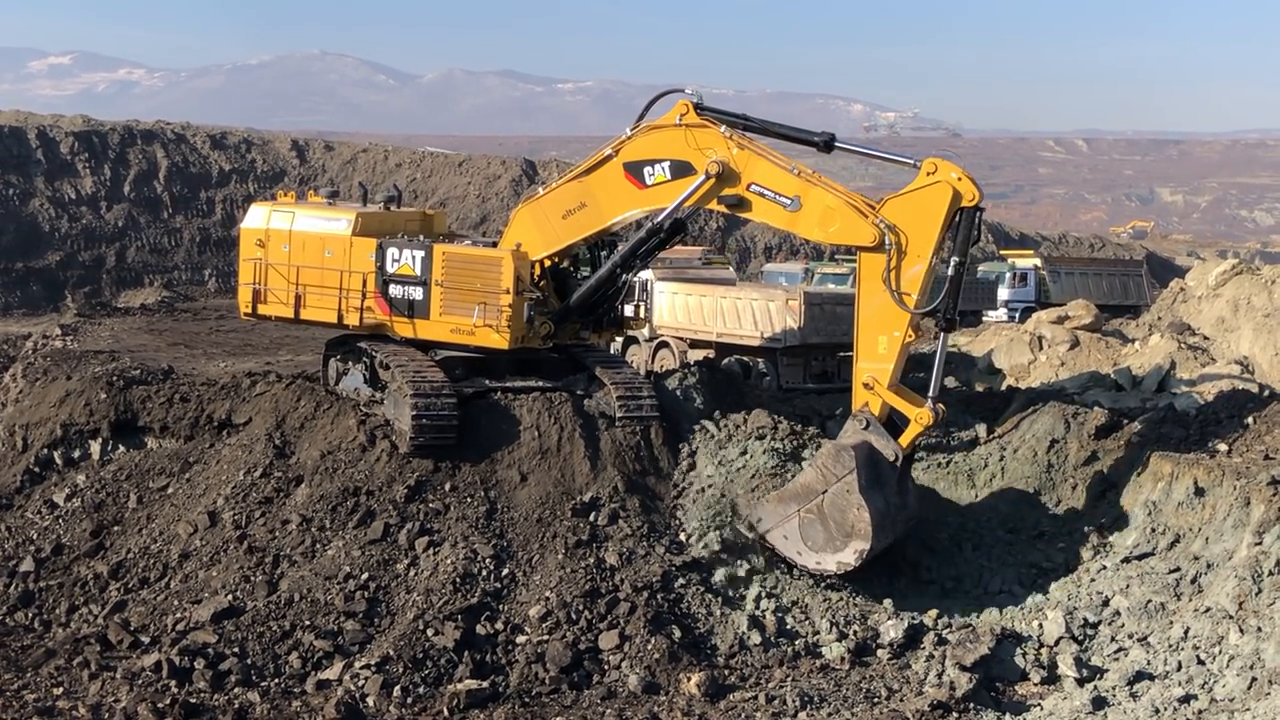full: (711, 411, 921, 583)
